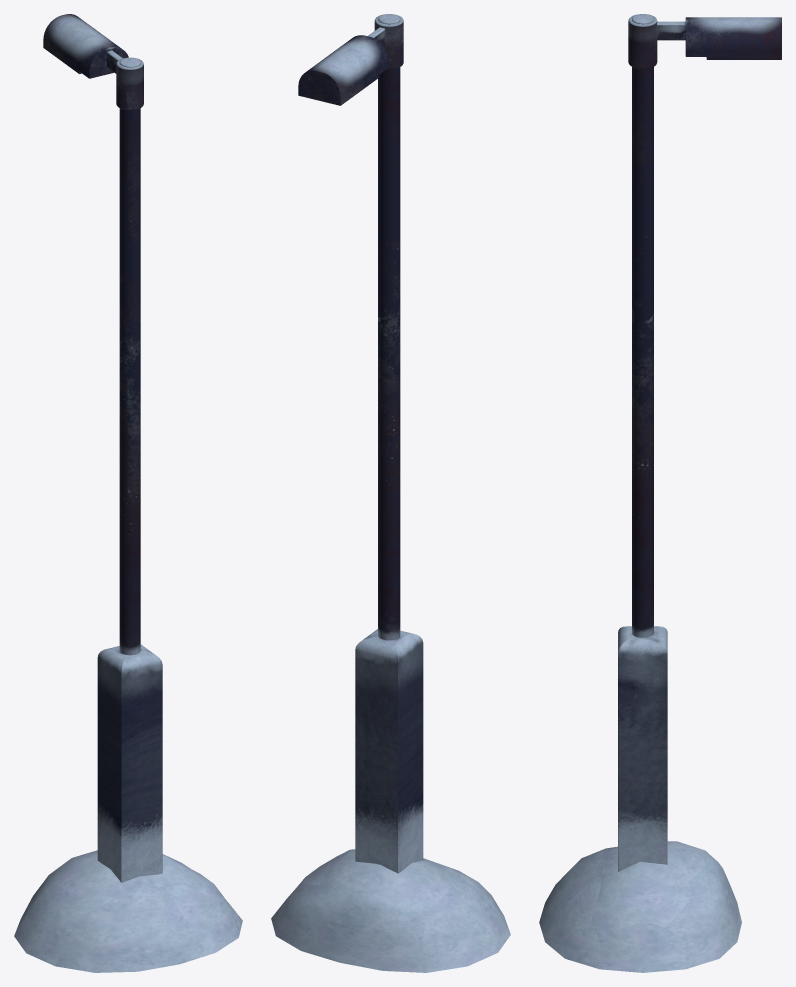
File: lampu jalan.fbx
3 renders of one model, left to right at view 1: azimuth 30°, elevation 25°; view 2: azimuth 150°, elevation 25°; view 3: azimuth 270°, elevation 25°, orthographic. The views are drawn at different scales.
Parts seen in each view (by area): view 1: Object_4; view 2: Object_4; view 3: Object_4.
Part boxes in pixels (x1=…): Object_4: x1=14, y1=14, x2=242, y2=972; Object_4: x1=271, y1=14, x2=510, y2=972; Object_4: x1=539, y1=14, x2=781, y2=972.
Bounding box in the file's own units: 1.56 × 6.38 × 1.55.
Materials: 1 (1 with a texture image).
